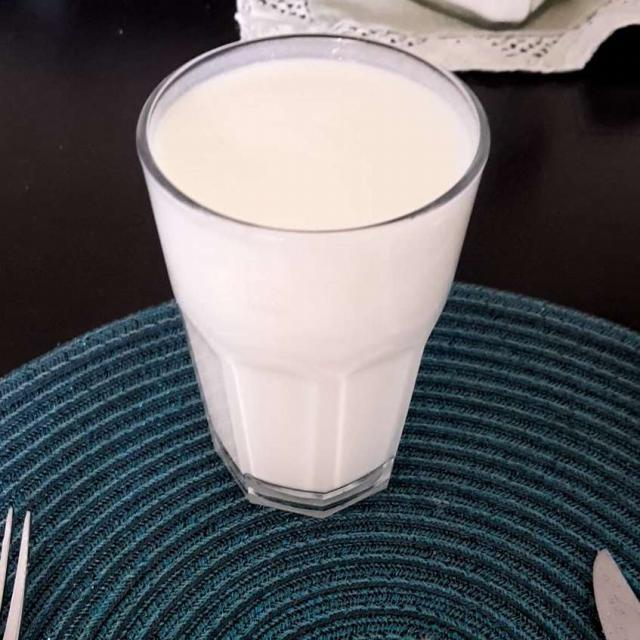drink: (156, 61, 468, 496)
